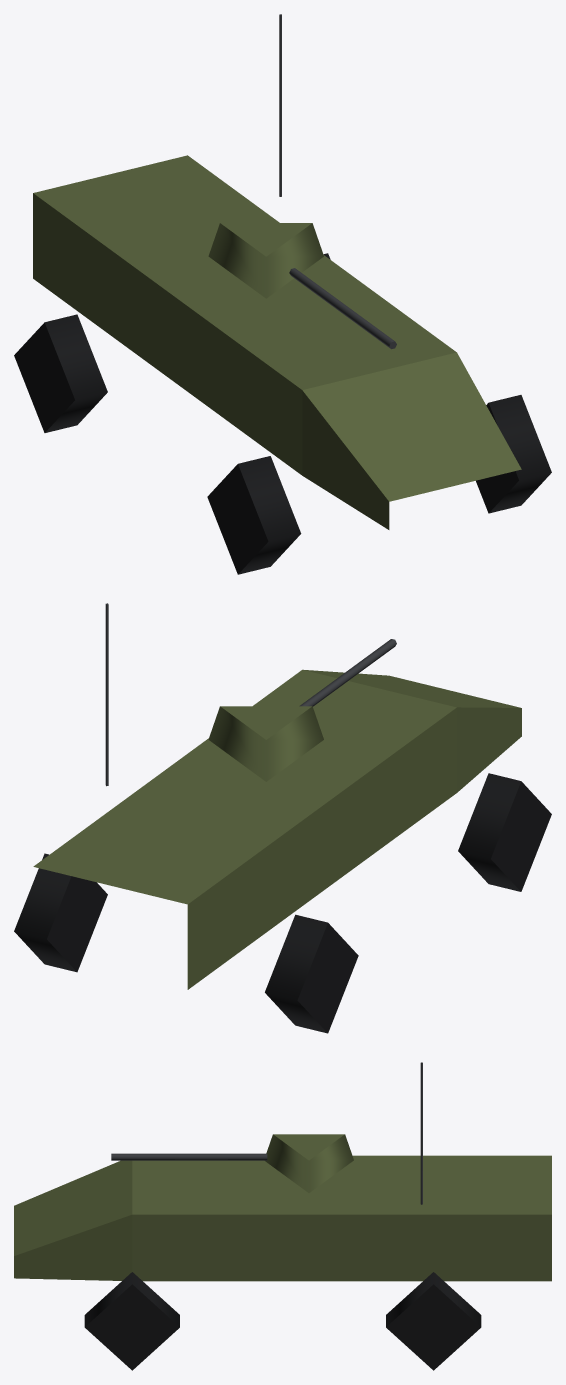
Rendered from veh_ground_scout_car_a06_lod2.glb.
3 renders of one model, top to bottom at view 1: azimuth 30°, elevation 25°; view 2: azimuth 150°, elevation 25°; view 3: azimuth 270°, elevation 25°, orthographic. The views are drawn at different scales.
Visible parts, largest first — view 1: body, wheel_2, wheel_0, turret, wheel_3; view 2: body, wheel_0, wheel_2, turret, wheel_1; view 3: body, wheel_1, wheel_3, turret.
Part boxes in pixels (x1,y1,x2,y2): body: [33, 14, 521, 529]; wheel_2: [207, 456, 301, 574]; wheel_0: [14, 314, 107, 432]; turret: [208, 223, 396, 349]; wheel_3: [476, 395, 551, 513]; body: [33, 603, 521, 989]; wheel_0: [265, 914, 358, 1033]; wheel_2: [458, 773, 551, 891]; turret: [208, 639, 396, 781]; wheel_1: [14, 853, 107, 972]; body: [14, 1062, 551, 1281]; wheel_1: [386, 1272, 481, 1370]; wheel_3: [84, 1272, 179, 1370]; turret: [111, 1134, 353, 1192].
Size of the model in its own units: 2.94 by 3.65 by 6.2.
